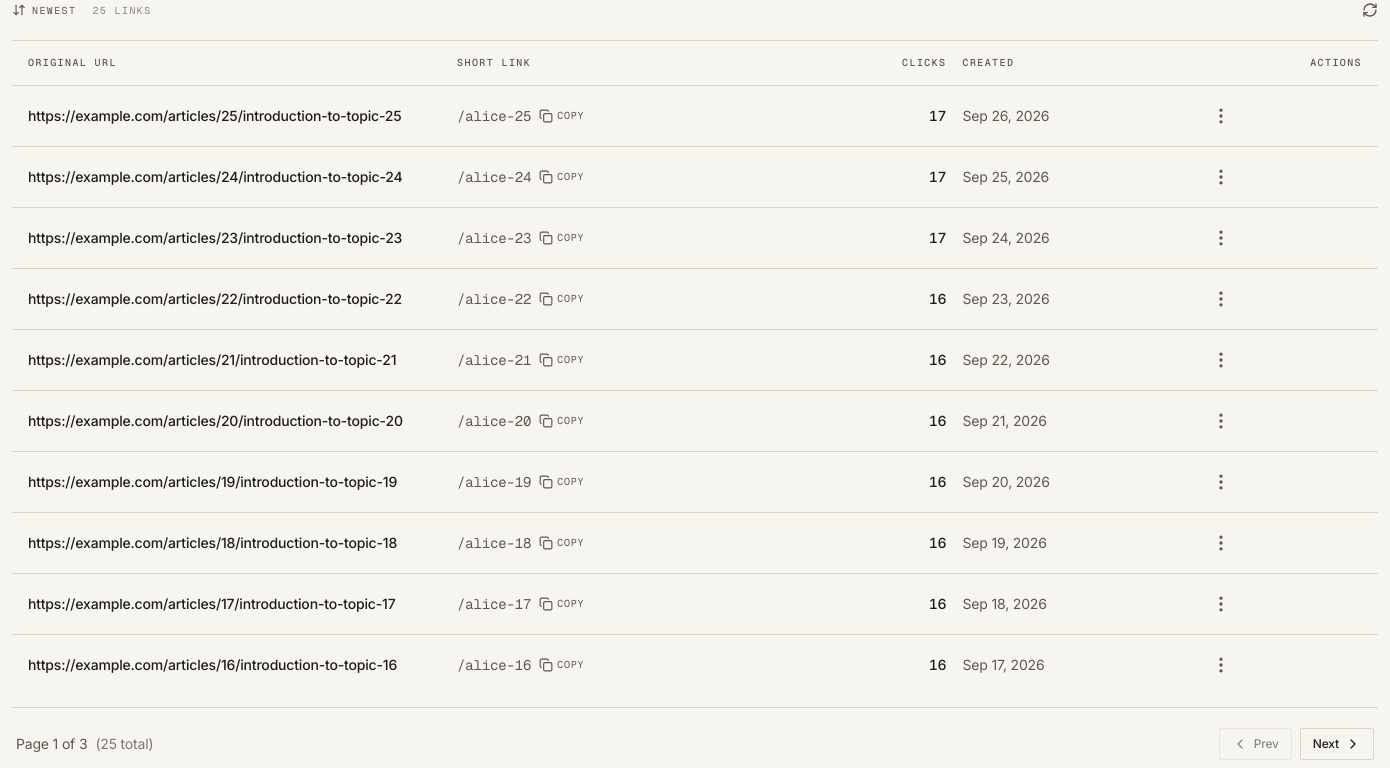
LinkList › paginates the current user links (10 per page)
(page scrolled)
Expected: the text "Page 1 of 3(25 total)" is shown, 16,734 -> 153,754
Click the button with aria-label "next page".
click(1337, 744)  # box 1300,728 -> 1374,760
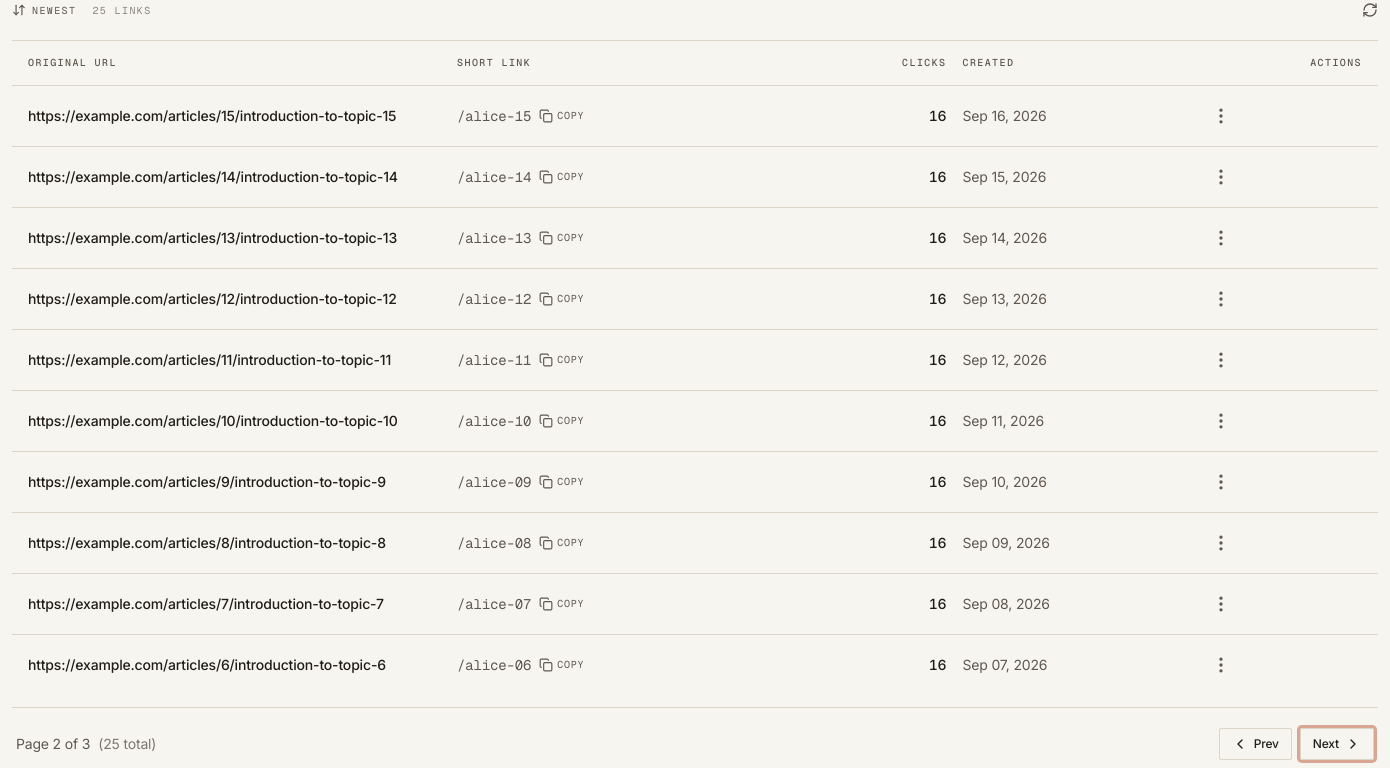
Result: the text "Page 2 of 3(25 total)" is shown at 16,734 -> 156,754
